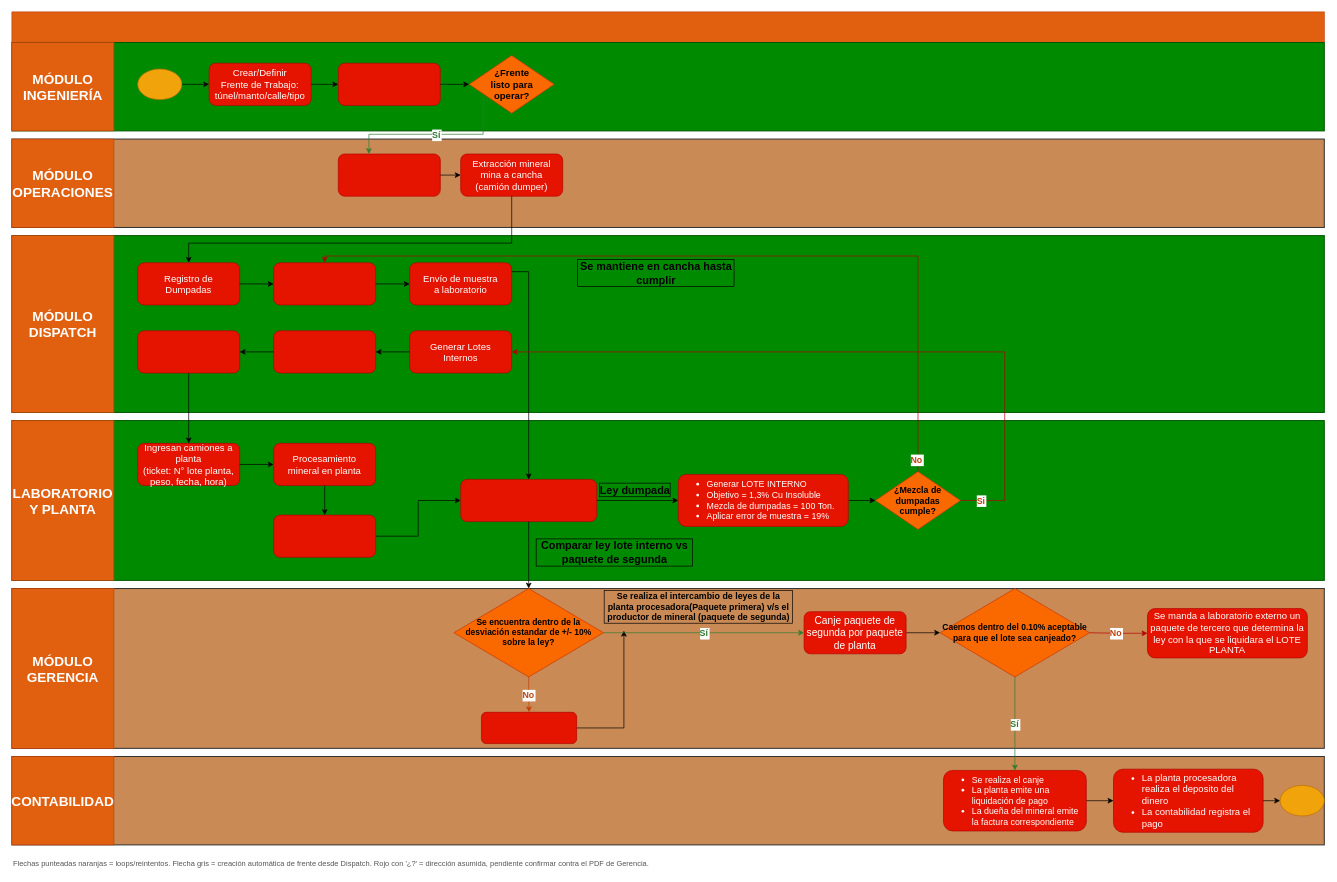
Some shapes in this 1337 by 882 pixel diagram are drawn without their labels. Each missing label, with the box of its shape:
Análisis de muestras y paquetes de segunda Entrega de resultados: (460, 479, 597, 522)
Auditoría Interna: (481, 712, 577, 744)
Cargar camiones de distintos lotes internos: (273, 330, 376, 373)
Despacho de camiones a planta: (137, 330, 240, 373)
FIN: (1279, 785, 1324, 816)
INICIO: (137, 68, 182, 100)
Muestra representativa (paquete de segunda): (273, 514, 376, 557)
Proceso de Toma de Muestra: (273, 262, 376, 305)
Registro de Perforación y Tronadura: (338, 153, 440, 196)
Seguimiento de Estado (ventilación, estabilidad, fecha estimada): (338, 63, 440, 105)
SISTEMA DE GESTIÓN OPERATIVO 3H — Flujo de Datos (incluye Ingeniería): (11, 11, 1324, 42)
